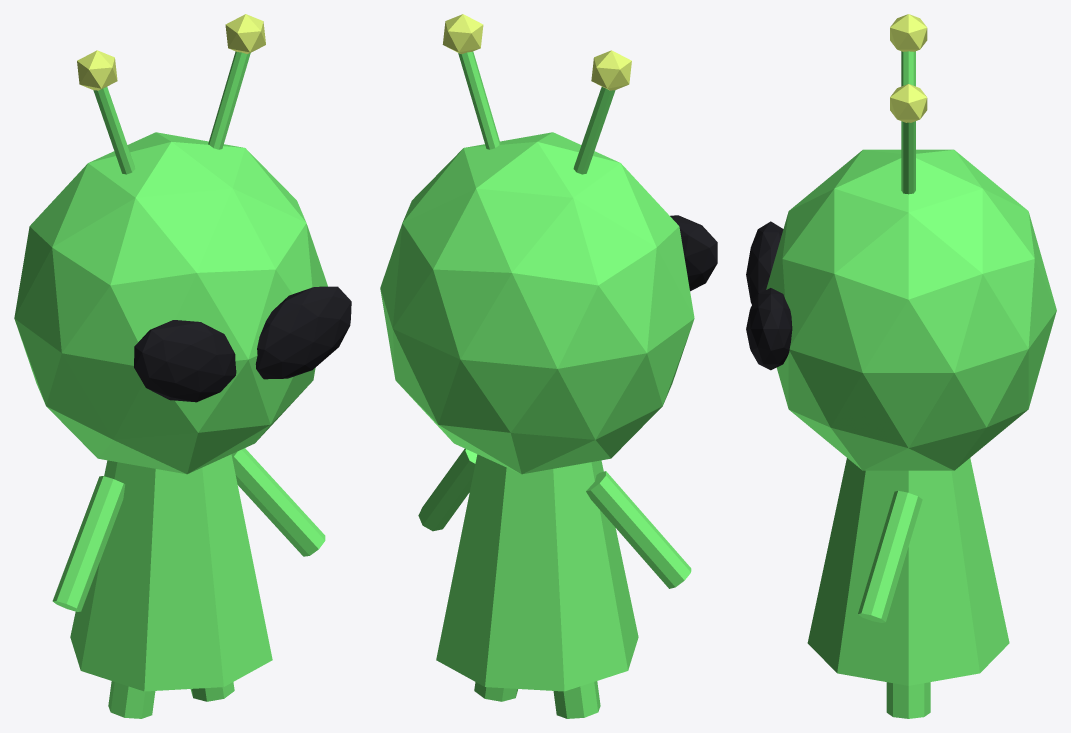
Rendered from Alien.fbx.
3 renders of one model, left to right at view 1: azimuth 30°, elevation 25°; view 2: azimuth 150°, elevation 25°; view 3: azimuth 270°, elevation 25°, orthographic. The views are drawn at different scales.
Visible parts, largest first — view 1: Skin, Eyes, Glow; view 2: Skin, Glow, Eyes; view 3: Skin, Eyes, Glow.
Boxes of the visible parts, x1=… form: Skin: x1=14, y1=51, x2=327, y2=718; Eyes: x1=134, y1=286, x2=351, y2=402; Glow: x1=77, y1=14, x2=265, y2=90; Skin: x1=380, y1=51, x2=694, y2=718; Glow: x1=442, y1=14, x2=631, y2=90; Eyes: x1=670, y1=215, x2=717, y2=291; Skin: x1=766, y1=51, x2=1056, y2=718; Eyes: x1=746, y1=221, x2=792, y2=370; Glow: x1=890, y1=14, x2=927, y2=122.
Size of the model in its own units: 1.63 by 3.89 by 1.69.
